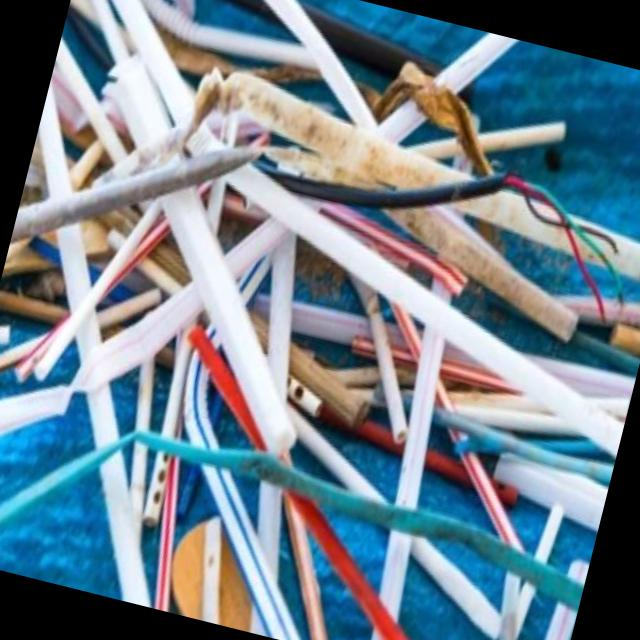electronic: (225, 157, 624, 462)
